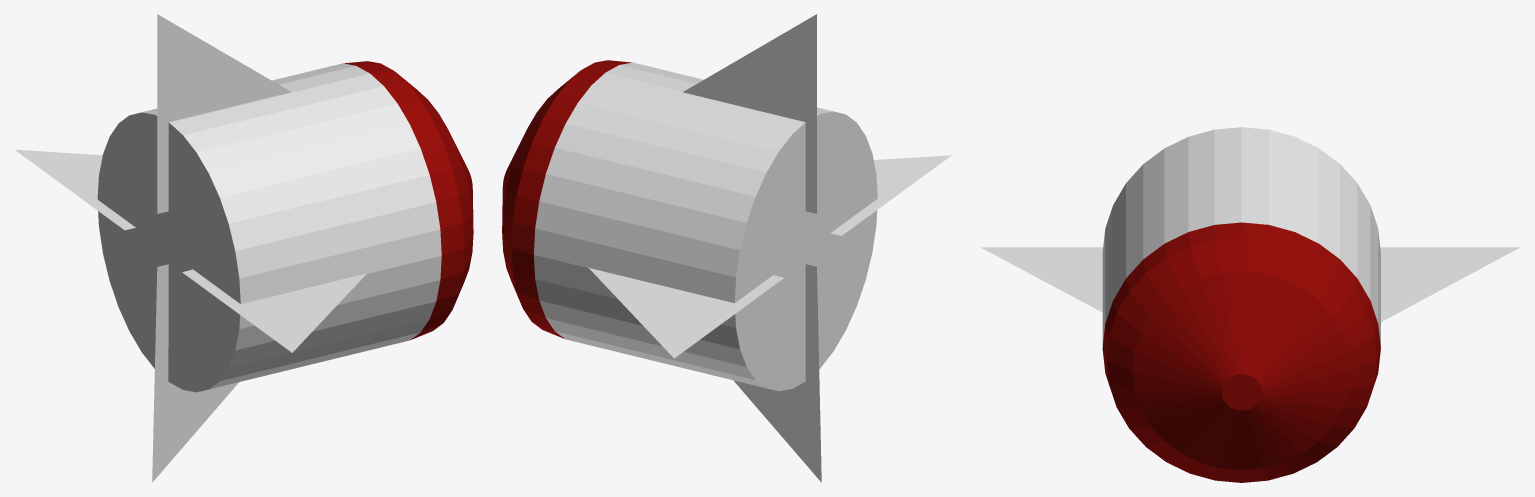
File: rocket.fbx
3 renders of one model, left to right at view 1: azimuth 30°, elevation 25°; view 2: azimuth 150°, elevation 25°; view 3: azimuth 270°, elevation 25°, orthographic. The views are drawn at different scales.
Visible parts, largest first — view 1: Cylinder, Cylinder.001, Plane.001, Plane.003, Plane, Plane.002; view 2: Cylinder, Cylinder.001, Plane.001, Plane.002, Plane.003, Plane; view 3: Cylinder.001, Cylinder, Plane.002, Plane.
Part boxes in pixels (left/top/right/bottom): Cylinder: left=97, top=63, right=441, bottom=392; Cylinder.001: left=343, top=61, right=473, bottom=339; Plane.001: left=157, top=14, right=291, bottom=213; Plane.003: left=152, top=264, right=238, bottom=482; Plane: left=182, top=269, right=366, bottom=352; Plane.002: left=15, top=149, right=135, bottom=230; Cylinder: left=534, top=62, right=877, bottom=391; Cylinder.001: left=502, top=60, right=632, bottom=338; Plane.001: left=683, top=14, right=816, bottom=213; Plane.002: left=589, top=268, right=783, bottom=358; Plane.003: left=733, top=264, right=821, bottom=482; Plane: left=831, top=155, right=951, bottom=235; Cylinder.001: left=1102, top=222, right=1380, bottom=482; Cylinder: left=1102, top=127, right=1380, bottom=347; Plane.002: left=1380, top=247, right=1519, bottom=321; Plane: left=981, top=247, right=1102, bottom=312.
Size of the model in its own units: 250 by 360 by 388.
